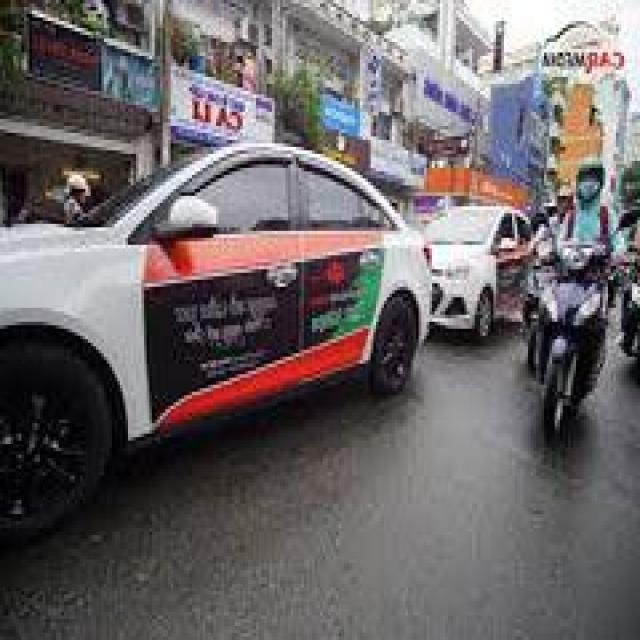car: (0, 126, 456, 542), (427, 185, 552, 357)
motorcycle: (525, 201, 640, 453)
